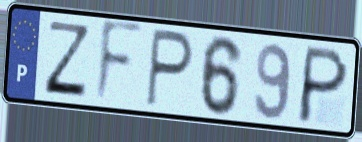6: (200, 33, 243, 118)
9: (252, 40, 294, 121)
F: (92, 17, 146, 108)
P: (294, 44, 351, 127), (143, 25, 196, 111)
Z: (41, 18, 92, 101)
